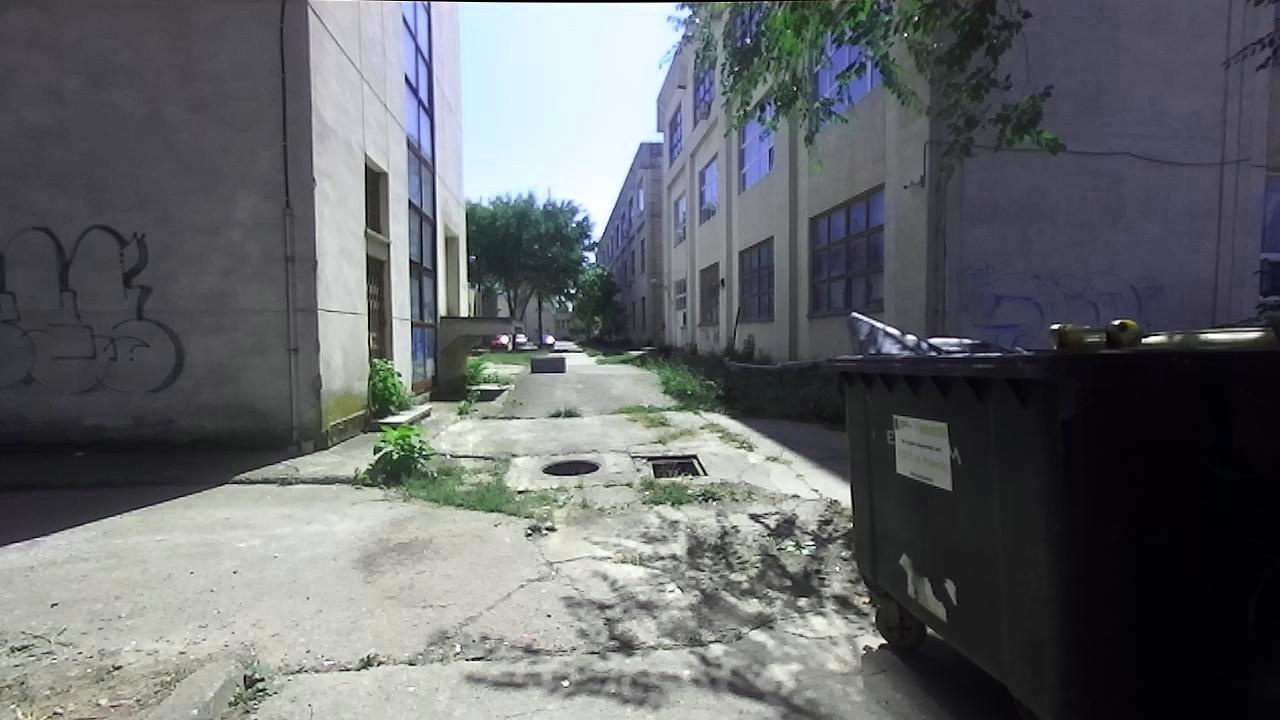drain: (646, 451, 714, 482), (539, 455, 607, 479)
